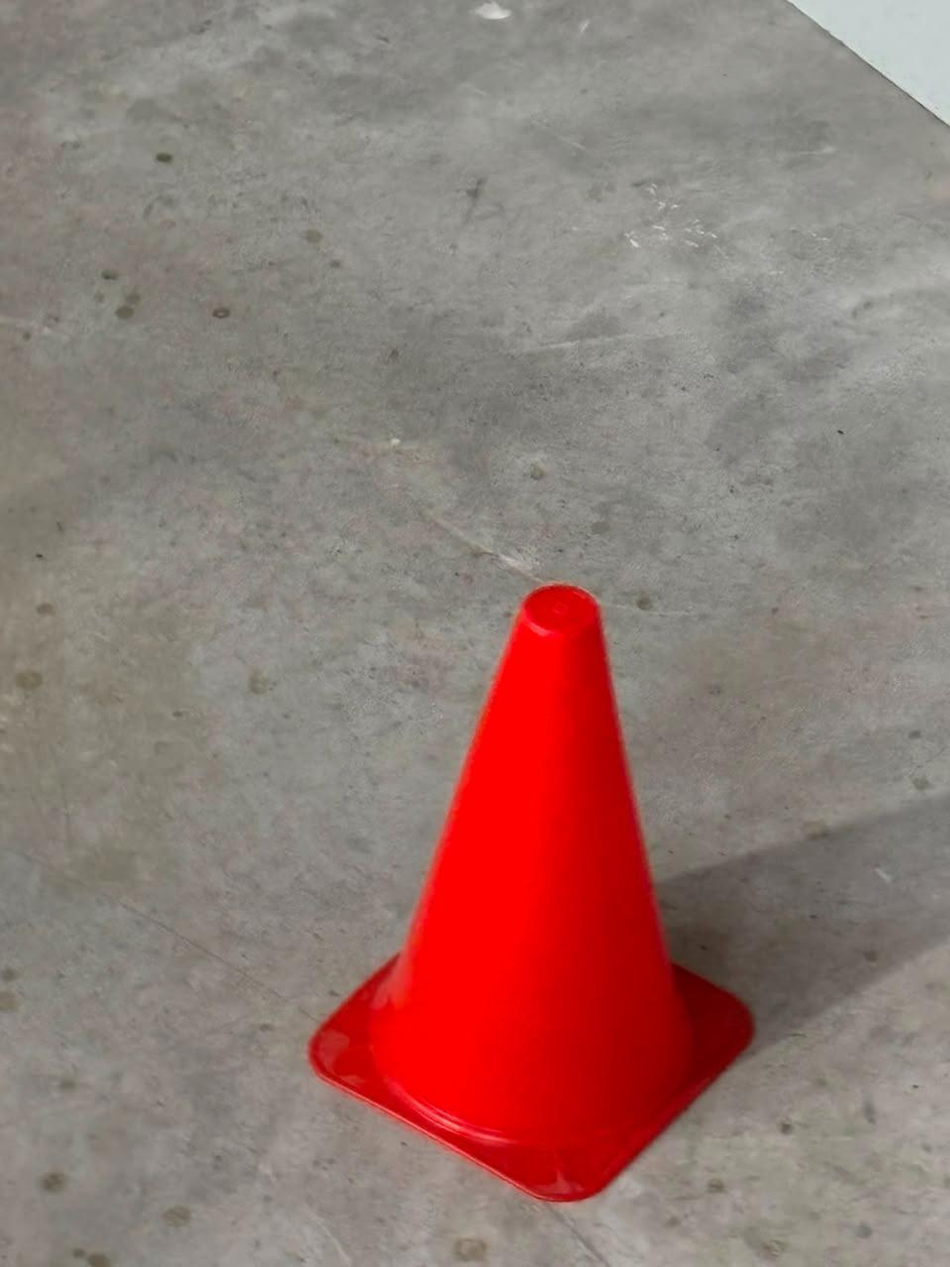0 cone: (311, 586, 751, 1200)
